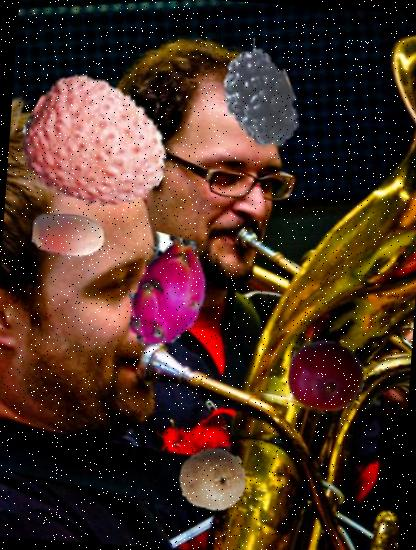Hazelnut: (29, 194, 109, 274)
Kiwi: (176, 443, 249, 516)
Lychee: (18, 68, 174, 225)
Mango: (284, 335, 366, 417)
Mulberry: (188, 40, 308, 160)
Pitahaya: (105, 232, 228, 355)
